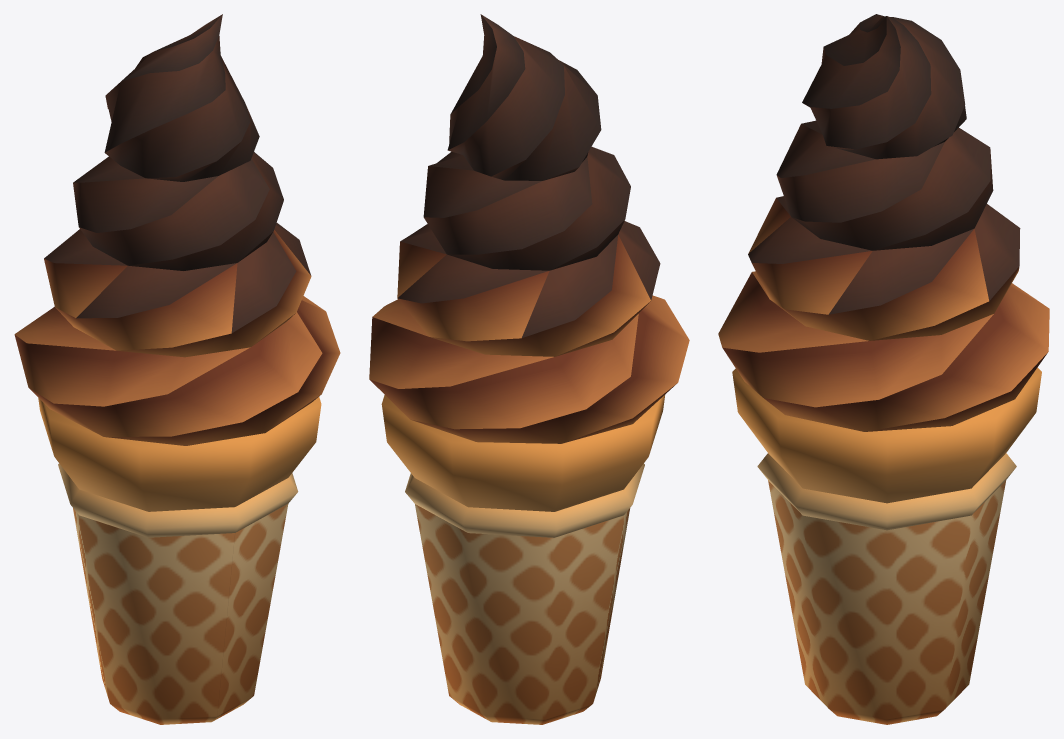
File: m_Softserve15.fbx
3 views of the same model, side by side, from view 1: azimuth 30°, elevation 25°; view 2: azimuth 150°, elevation 25°; view 3: azimuth 270°, elevation 25° (orthographic). The views are drawn at different scales.
Visible parts, largest first — view 1: m_Softserve15; view 2: m_Softserve15; view 3: m_Softserve15.
Boxes of the visible parts, <box> form: m_Softserve15: <box>14,14,340,724</box>; m_Softserve15: <box>369,14,689,724</box>; m_Softserve15: <box>718,14,1049,724</box>.
Size of the model in its own units: 11.45 by 26 by 11.13.
